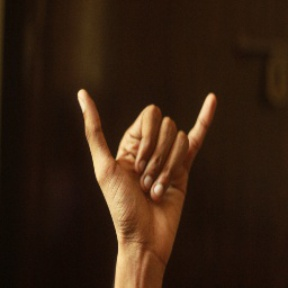J: (74, 70, 217, 245)
